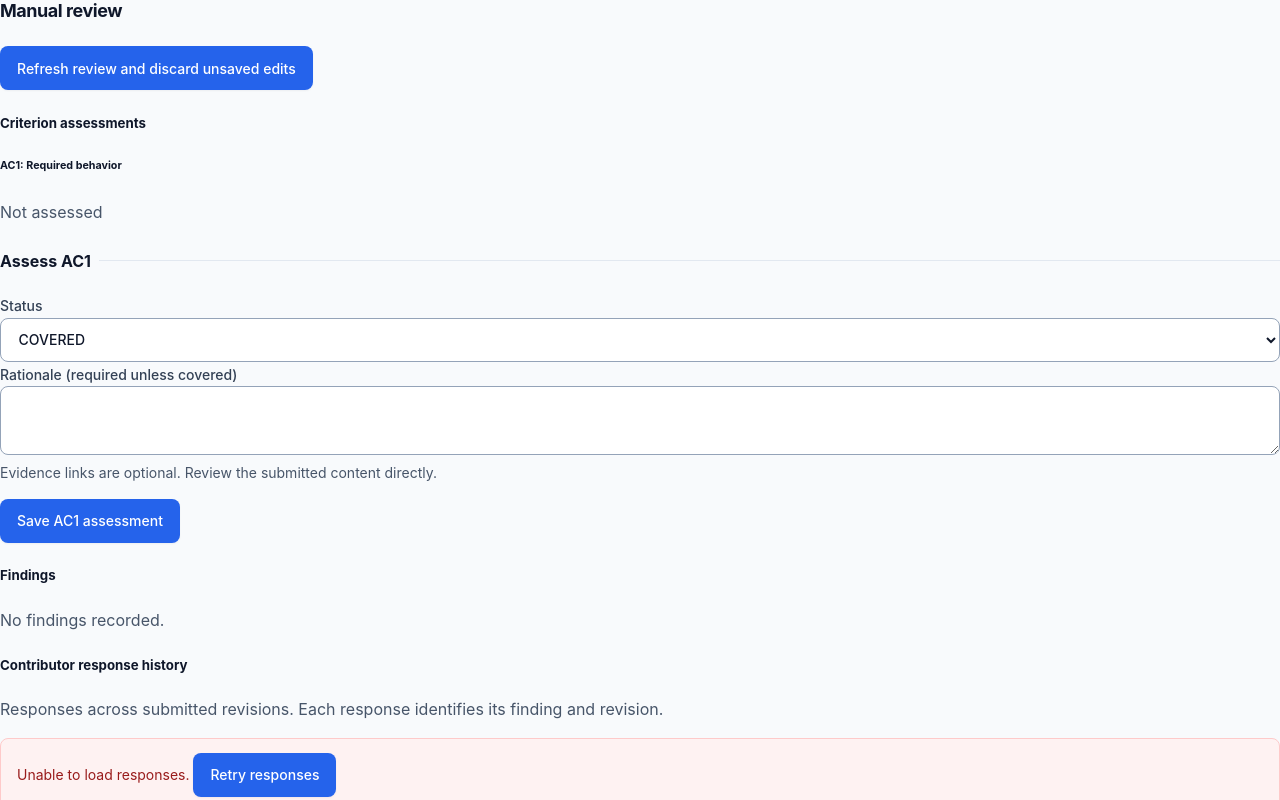
Test: Contributor response history › retries initial failures without freezing manual review or claiming the history is empty
Expected: the message shows "Unable to load responses", x1=17 y1=766 x2=193 y2=783
Expected: the button "Save AC1 assessment" is enabled, x1=0 y1=499 x2=180 y2=543
Click the button "Retry responses" at (265,775), box x1=193 y1=753 x2=336 y2=797
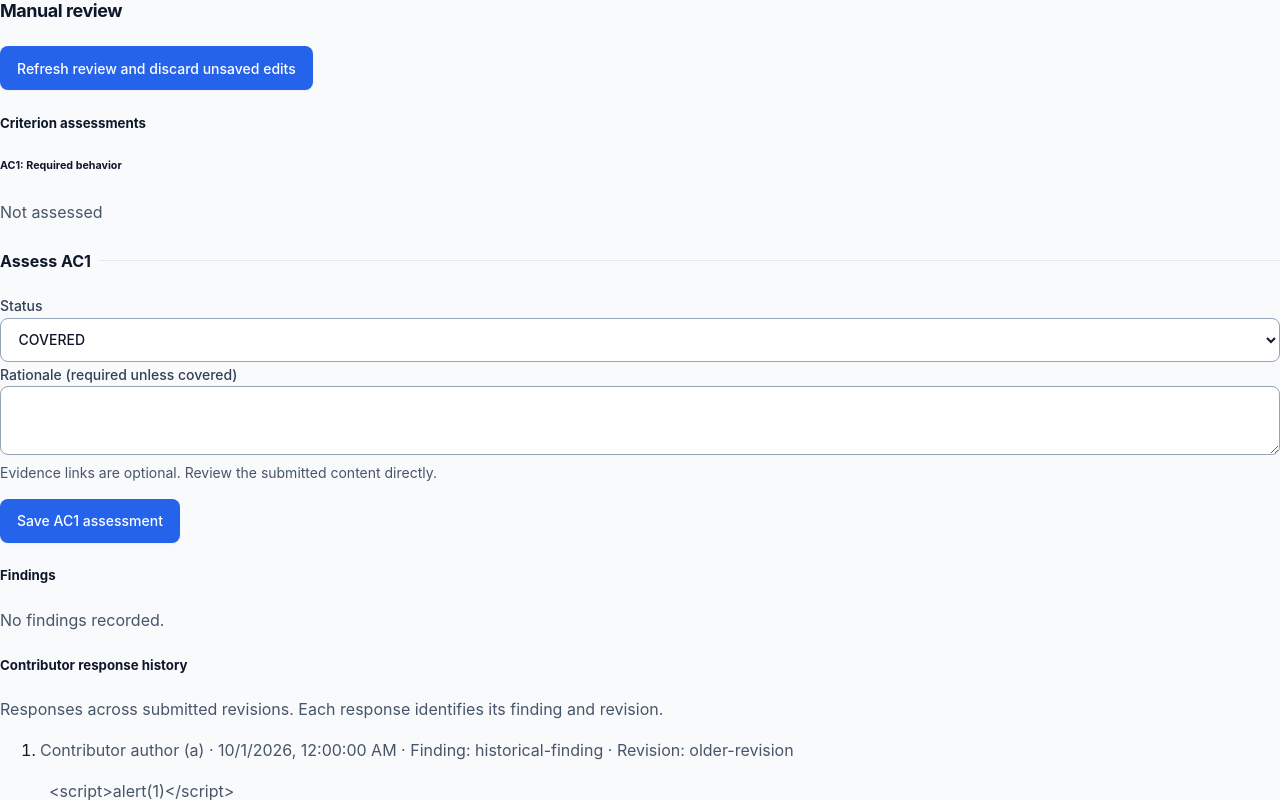
Result: the text "Contributor author" is shown at x1=40 y1=740 x2=179 y2=760
